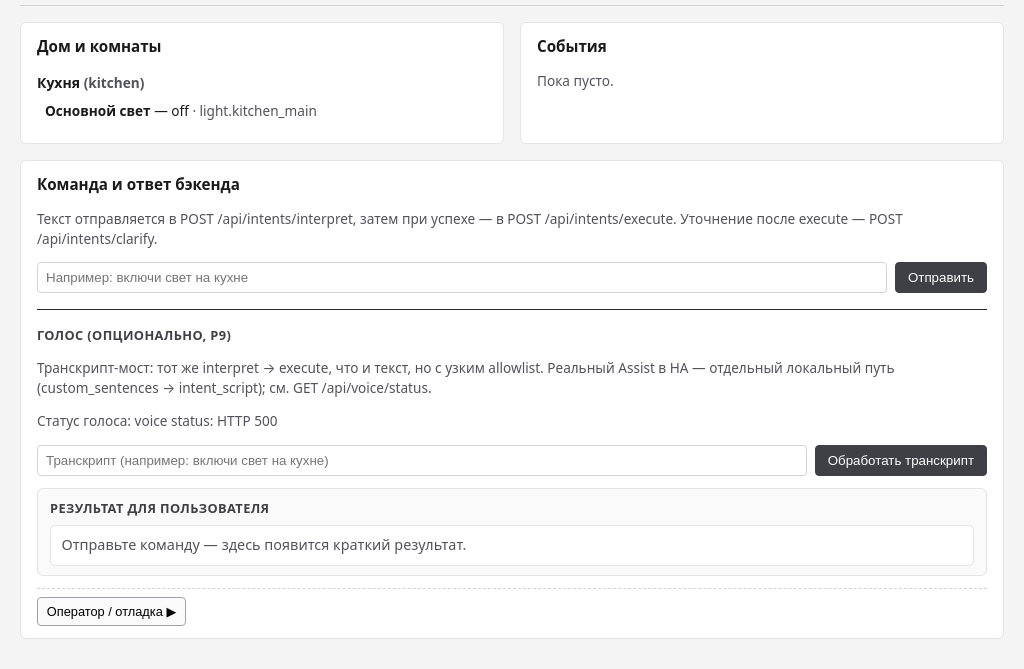
Test case: App P6b operator/debug › trace engine is neutral when response trace omits execution_engine and status_engine
Expected: the element with test id "house-state" is shown, [37,73,317,120]
Type "q" into the field with test id "command-input". click: (462, 278)
box: [37,262,887,293]
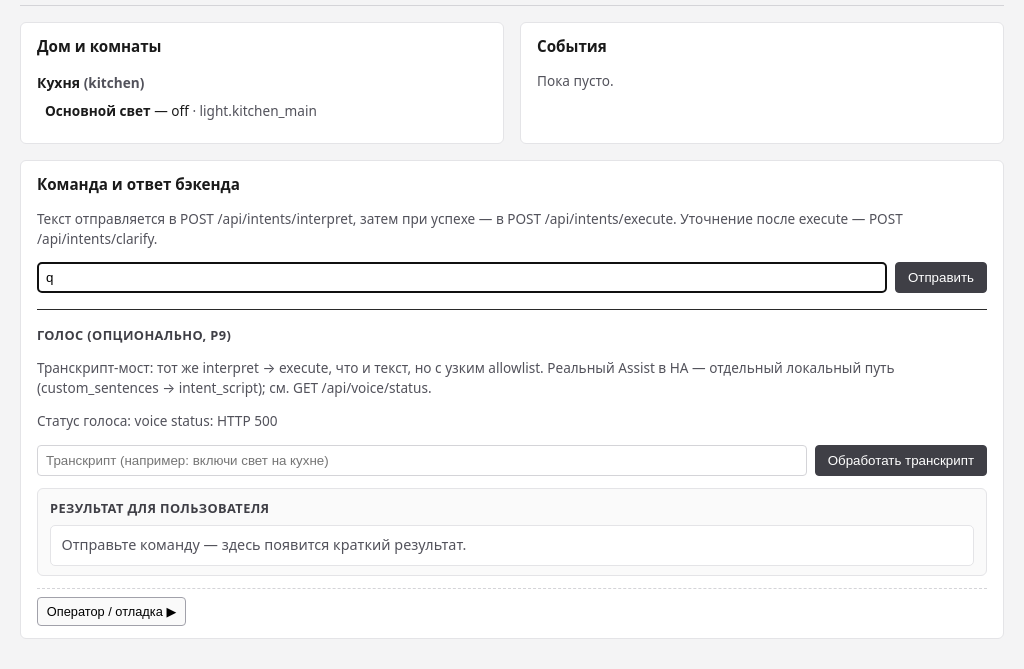
Click the button with test id "command-submit". click: (941, 278)
box: [895,262,987,293]
(page scrolled)
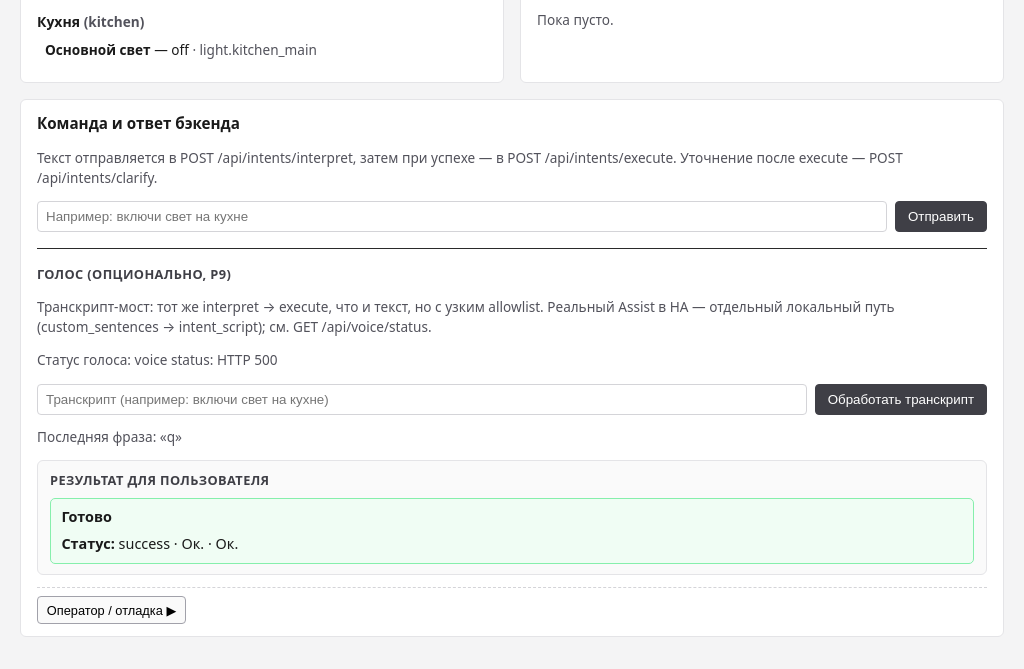
Expected: the text with test id "execute-status" reads "success", [119,534,170,553]
Click the button with test id "operator-debug-toggle". click: (112, 610)
box: [37,596,186,624]
(page scrolled)
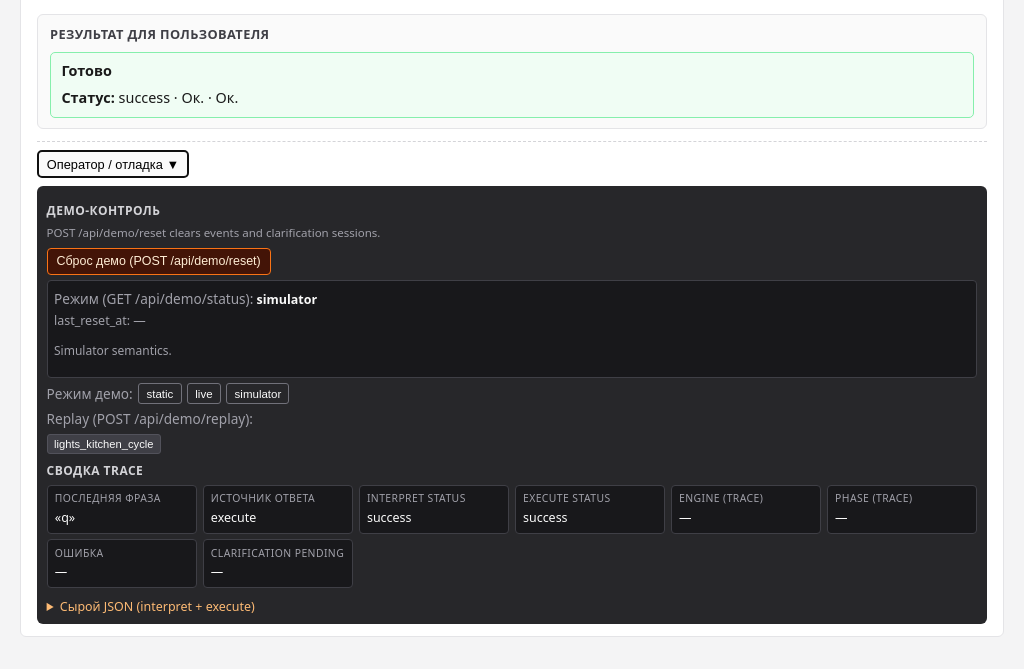
Expected: the text with test id "trace-engine" reads "—", [679,509,692,526]
